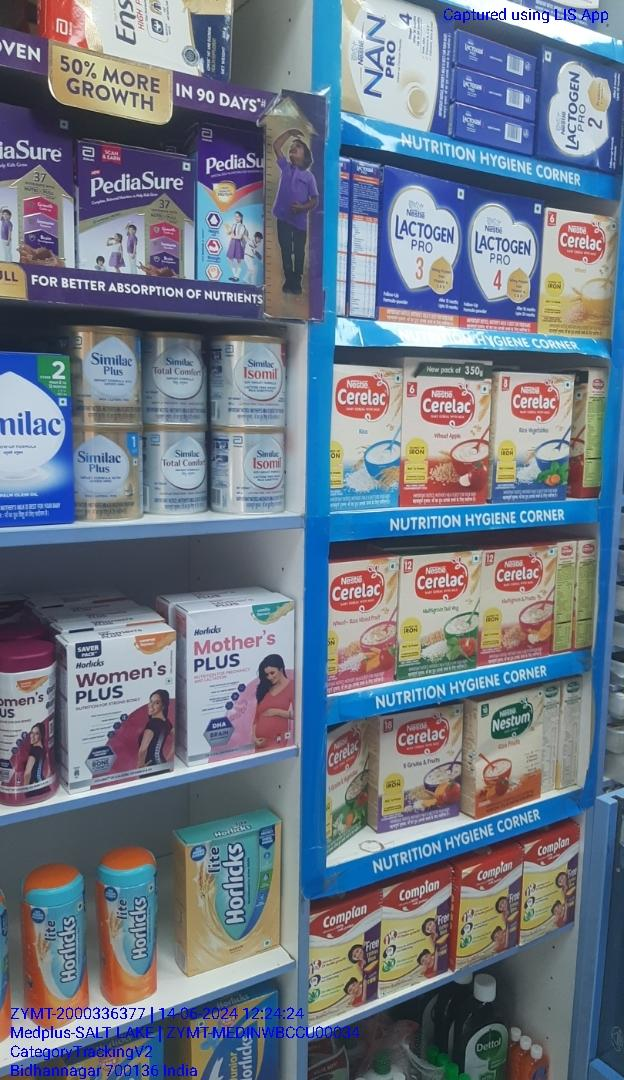COMPLAN_KESAR_BADAM_500_GMS_PACK: (308, 900, 376, 1015), (380, 882, 449, 978), (458, 857, 521, 949), (526, 841, 576, 930)
PEDIASURE_CHOCOLATE_500_G_PACK: (78, 141, 191, 278)
